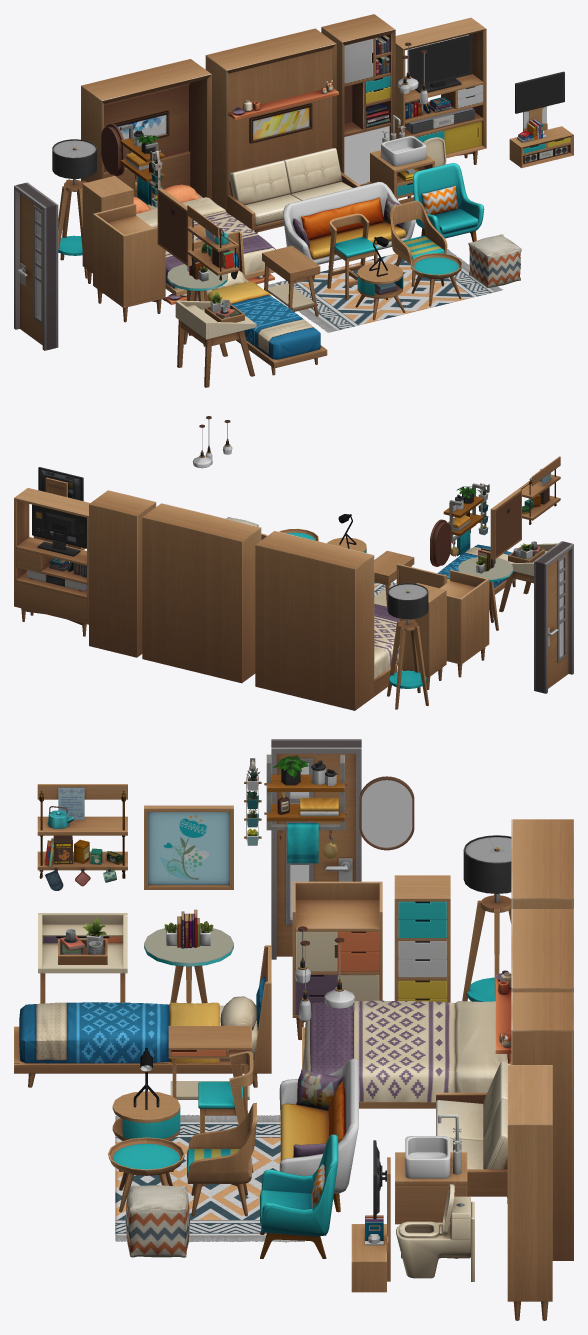
Rendered from Sims4_TinyLivingPack_1_0.fbx.
3 views of the same model, one above another, from view 1: azimuth 30°, elevation 25°; view 2: azimuth 150°, elevation 25°; view 3: azimuth 270°, elevation 25° (orthographic). The views are drawn at different scales.
Parts seen in each view (by area): view 1: s4studio_mesh_1, TinyLiving_MurphyBed, TinyLiving_MediaMarathoner, TinyLiving_PowerTowerBookcase, TinyLiving_ContemporaryCarpet, TinyLiving_StubbyCubbyDresser, TinyLiving_LovelyLoveseat, TinyLiving_Space-SavingSingle, TinyLiving_MurphyLoveSeat, s4studio_mesh_1.001, TinyLiving_LovelyArmchair, s4studio_mesh_4 (+27 smaller); view 2: TinyLiving_MurphyBed, TinyLiving_MurphyLoveSeat, TinyLiving_MediaMarathoner, TinyLiving_PowerTowerBookcase, TinyLiving_StubbyCubbyDresser, s4studio_mesh_1.001, TinyLiving_LampWithoutStorage, TinyLiving_PowerTowerDresser, TinyLiving_SimpleandCleanArt, TinyLiving_TieredShelf, TinyLiving_Space-SavingSingle, TinyLiving_OpenShelf (+12 smaller); view 3: s4studio_mesh_4, TinyLiving_Space-SavingSingle, TinyLiving_MediaMarathoner, TinyLiving_StubbyCubbyDresser, TinyLiving_PowerTowerBookcase, TinyLiving_JustALittlePeek, TinyLiving_ContemporaryCarpet, TinyLiving_LovelyLoveseat, TinyLiving_SimpleandCleanArt, s4studio_mesh_1, TinyLiving_PowerTowerDresser, TinyLiving_OpenShelf (+22 smaller).
Part boxes in pixels (bbox=[...]): s4studio_mesh_1: bbox=[227, 48, 360, 233]; TinyLiving_MurphyBed: bbox=[81, 59, 211, 199]; TinyLiving_MediaMarathoner: bbox=[395, 17, 486, 164]; TinyLiving_PowerTowerBookcase: bbox=[321, 14, 395, 185]; TinyLiving_ContemporaryCarpet: bbox=[264, 248, 502, 332]; TinyLiving_StubbyCubbyDresser: bbox=[93, 203, 165, 322]; TinyLiving_LovelyLoveseat: bbox=[283, 181, 415, 279]; TinyLiving_Space-SavingSingle: bbox=[187, 230, 327, 375]; TinyLiving_MurphyLoveSeat: bbox=[205, 28, 336, 213]; s4studio_mesh_1.001: bbox=[14, 184, 51, 350]; TinyLiving_LovelyArmchair: bbox=[413, 163, 484, 241]; s4studio_mesh_4: bbox=[133, 184, 275, 289]; TinyLiving_MurphyBed: bbox=[255, 531, 374, 710]; TinyLiving_MurphyLoveSeat: bbox=[142, 503, 261, 683]; TinyLiving_MediaMarathoner: bbox=[14, 488, 89, 636]; TinyLiving_PowerTowerBookcase: bbox=[89, 490, 156, 657]; TinyLiving_StubbyCubbyDresser: bbox=[440, 570, 489, 677]; s4studio_mesh_1.001: bbox=[540, 542, 573, 693]; TinyLiving_LampWithoutStorage: bbox=[387, 583, 428, 709]; TinyLiving_PowerTowerDresser: bbox=[400, 583, 446, 689]; TinyLiving_SimpleandCleanArt: bbox=[490, 489, 521, 559]; TinyLiving_TieredShelf: bbox=[443, 483, 484, 556]; TinyLiving_Space-SavingSingle: bbox=[396, 544, 516, 594]; TinyLiving_OpenShelf: bbox=[518, 456, 560, 520]; s4studio_mesh_4: bbox=[302, 1000, 511, 1102]; TinyLiving_Space-SavingSingle: bbox=[14, 945, 271, 1087]; TinyLiving_MediaMarathoner: bbox=[507, 1065, 552, 1320]; TinyLiving_StubbyCubbyDresser: bbox=[292, 881, 382, 1040]; TinyLiving_PowerTowerBookcase: bbox=[511, 992, 573, 1260]; TinyLiving_JustALittlePeek: bbox=[271, 744, 361, 959]; TinyLiving_ContemporaryCarpet: bbox=[115, 1114, 304, 1242]; TinyLiving_LovelyLoveseat: bbox=[279, 1058, 358, 1212]; TinyLiving_SimpleandCleanArt: bbox=[144, 805, 233, 889]; s4studio_mesh_1: bbox=[436, 970, 511, 1203]; TinyLiving_PowerTowerDresser: bbox=[394, 875, 450, 1002]; TinyLiving_OpenShelf: bbox=[37, 784, 127, 890].
Bounding box in the file's own units: 895 × 300 × 527.
